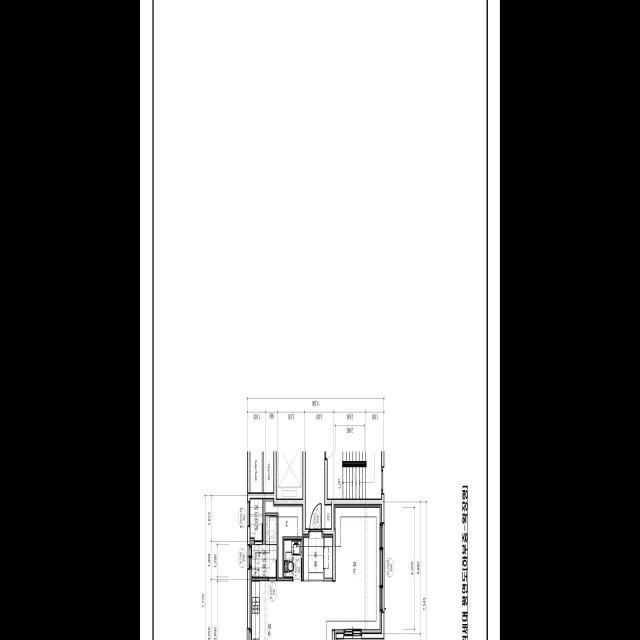background: (144, 0, 500, 640)
space_front: (304, 532, 332, 580)
space_kitchen: (252, 580, 294, 640)
space_living_room: (294, 507, 380, 640)
space_multipurpose_space: (252, 516, 277, 576)
space_other: (265, 501, 302, 577), (306, 451, 331, 528), (276, 451, 303, 498), (250, 451, 262, 492), (263, 450, 273, 492)
space_outdoor_room: (250, 499, 263, 540)
space_staircase: (328, 451, 381, 498)
space_toilet: (284, 540, 302, 576)
